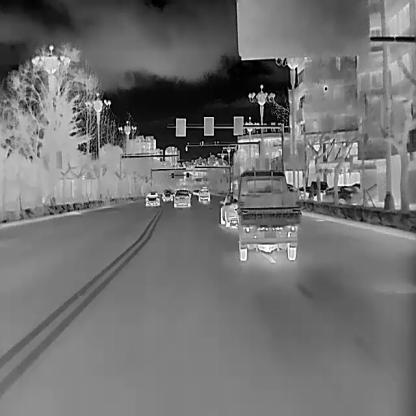car: (236, 168, 300, 261), (218, 191, 239, 228), (318, 185, 360, 203), (173, 188, 191, 208), (310, 180, 328, 196), (144, 190, 160, 207), (198, 187, 211, 201), (161, 189, 173, 202)
